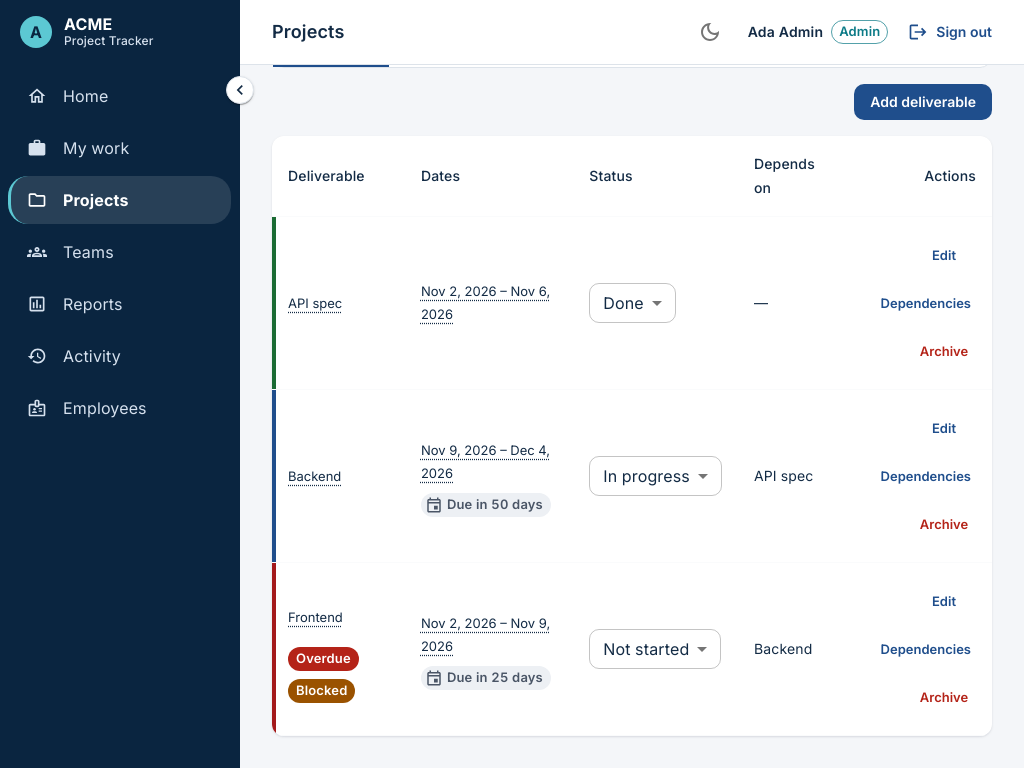
Scenario: Deliverable edit › checks the dates on the page before sending
The image size is (1024, 768).
(page scrolled)
Click the button with aria-label "Edit Backend": (944, 428) [912, 406, 976, 450]
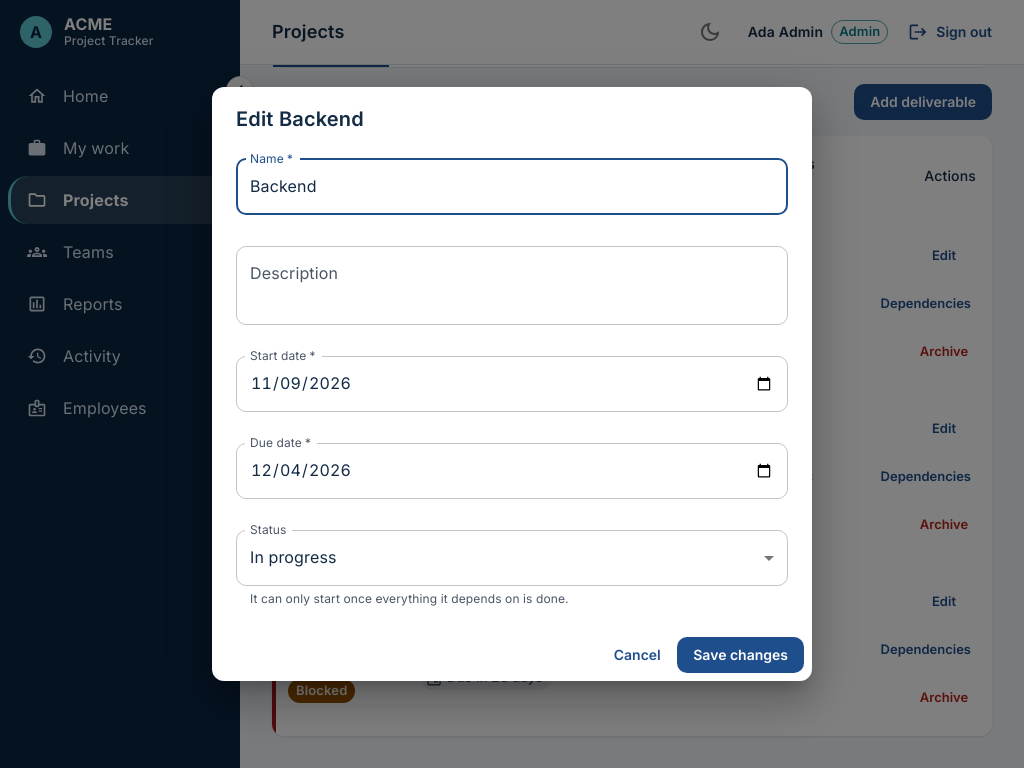
Clear the field labelled "Name *": (512, 187) [236, 159, 788, 215]
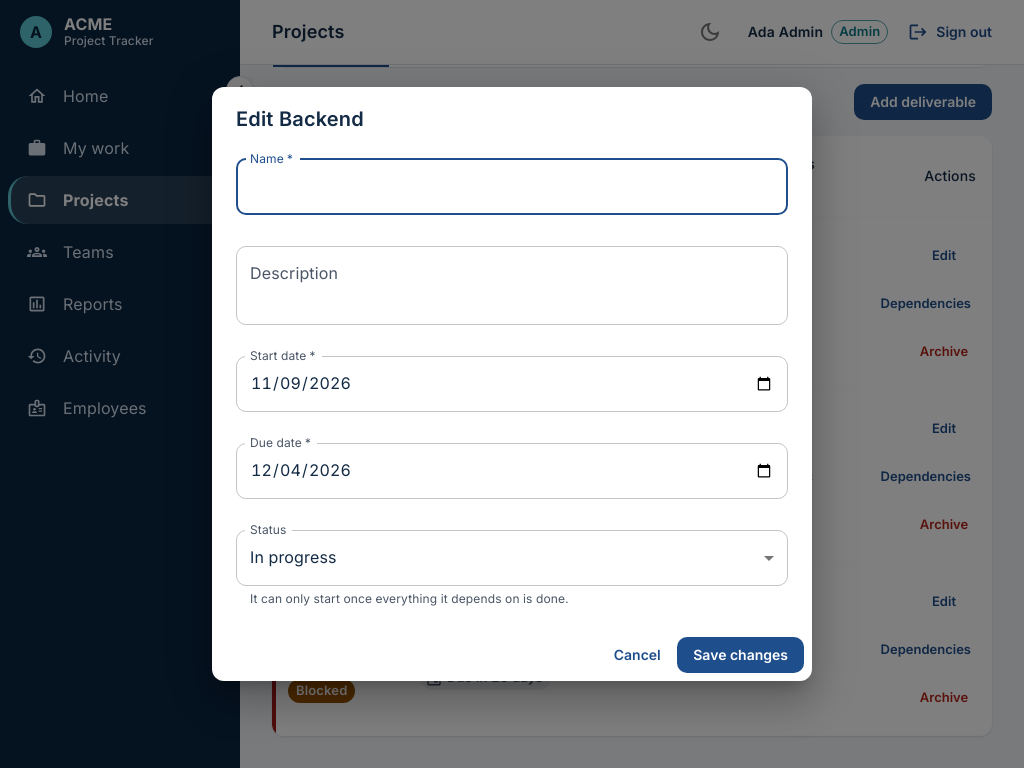
In the date field labelled "Due date *": (512, 471) [236, 443, 788, 499], type "2026-11-01"
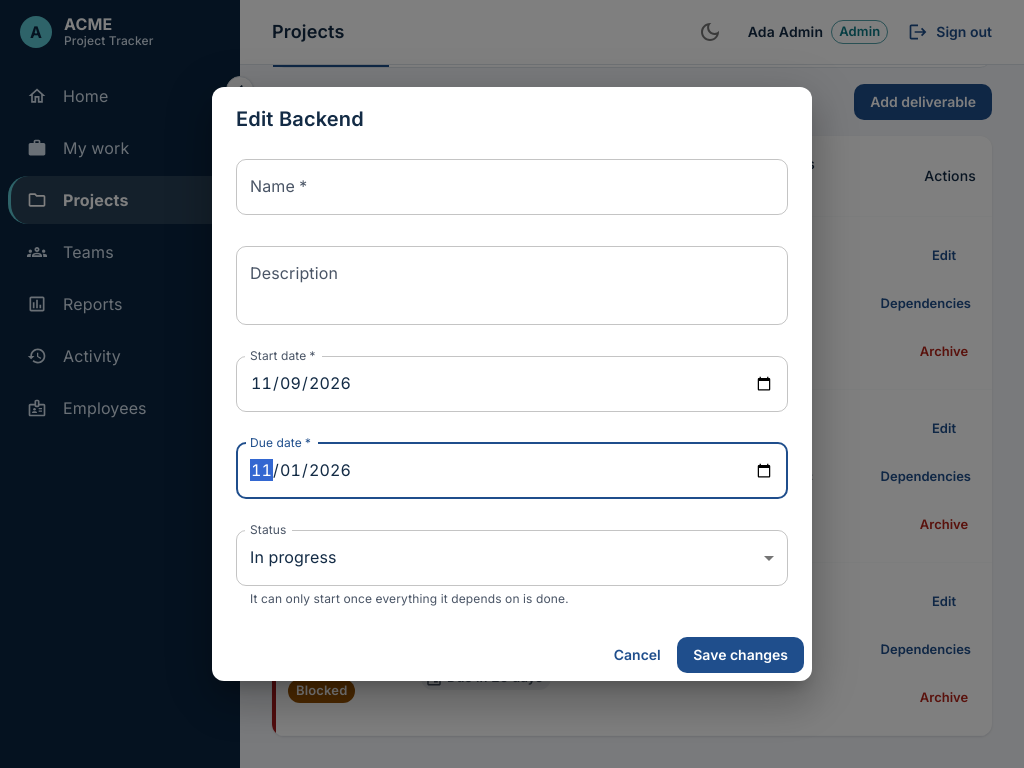
Click the button "Save changes": (741, 655) [677, 636, 804, 673]
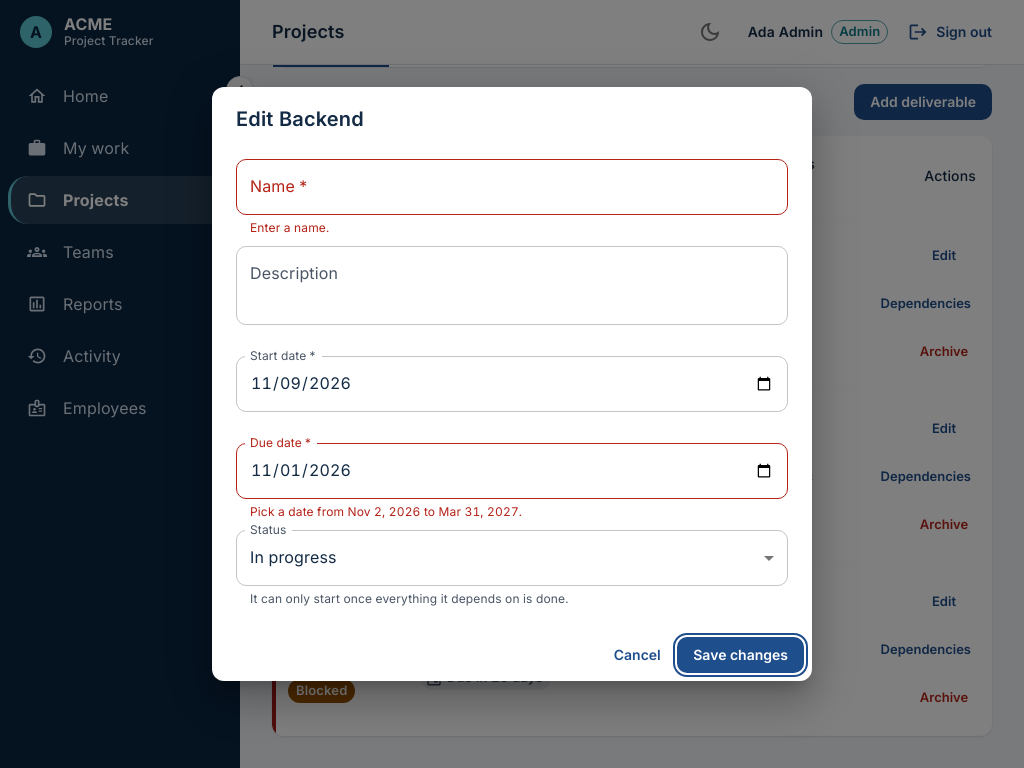
Check: the text "Enter a name." is shown, box [250, 220, 329, 235]
Check: the text "Pick a date from Nov 2, 2026 to Mar 31, 2027." is shown, box [250, 504, 522, 519]
